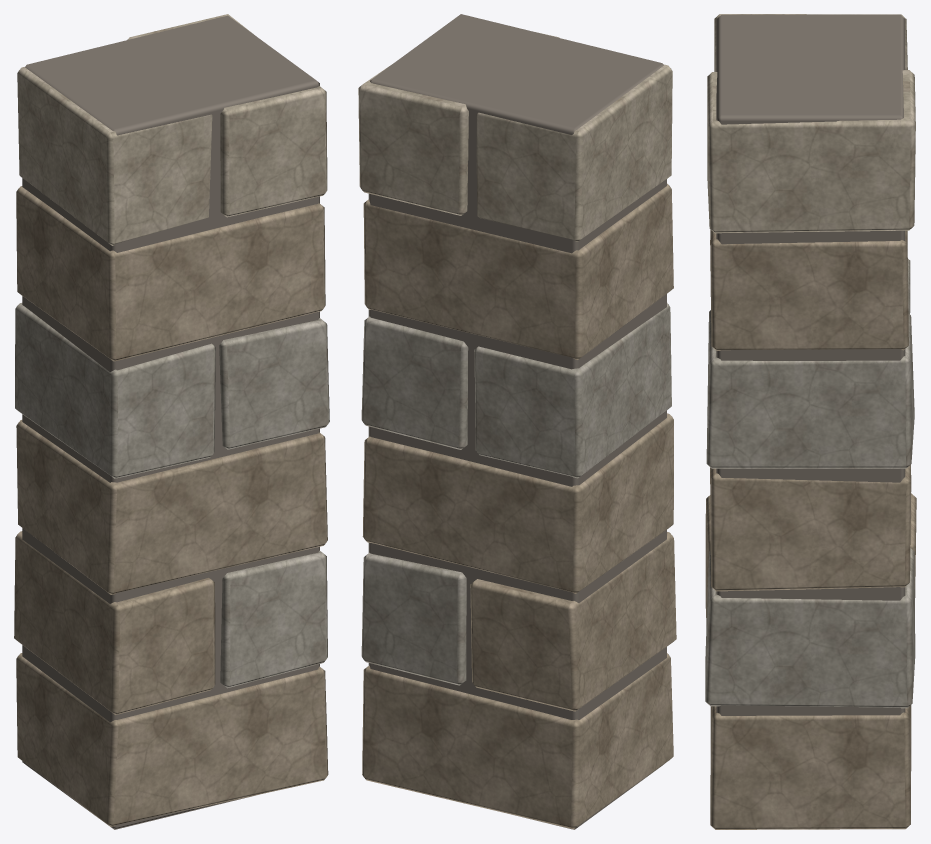
The model's file is Stone_Wall_1x3.glb.
The picture shows the model from 3 angles, left to right: view 1: azimuth 30°, elevation 25°; view 2: azimuth 150°, elevation 25°; view 3: azimuth 270°, elevation 25°; orthographic projection.
Visible parts, largest first — view 1: Stone_Wall_1x3; view 2: Stone_Wall_1x3; view 3: Stone_Wall_1x3.
Boxes of the visible parts, left/top/right/bottom form: Stone_Wall_1x3: left=14, top=14, right=329, bottom=829; Stone_Wall_1x3: left=358, top=14, right=676, bottom=829; Stone_Wall_1x3: left=705, top=14, right=916, bottom=829.
Bounding box in the file's own units: 0.9877 × 3 × 0.8045.
Materials: 4 (3 with a texture image).
